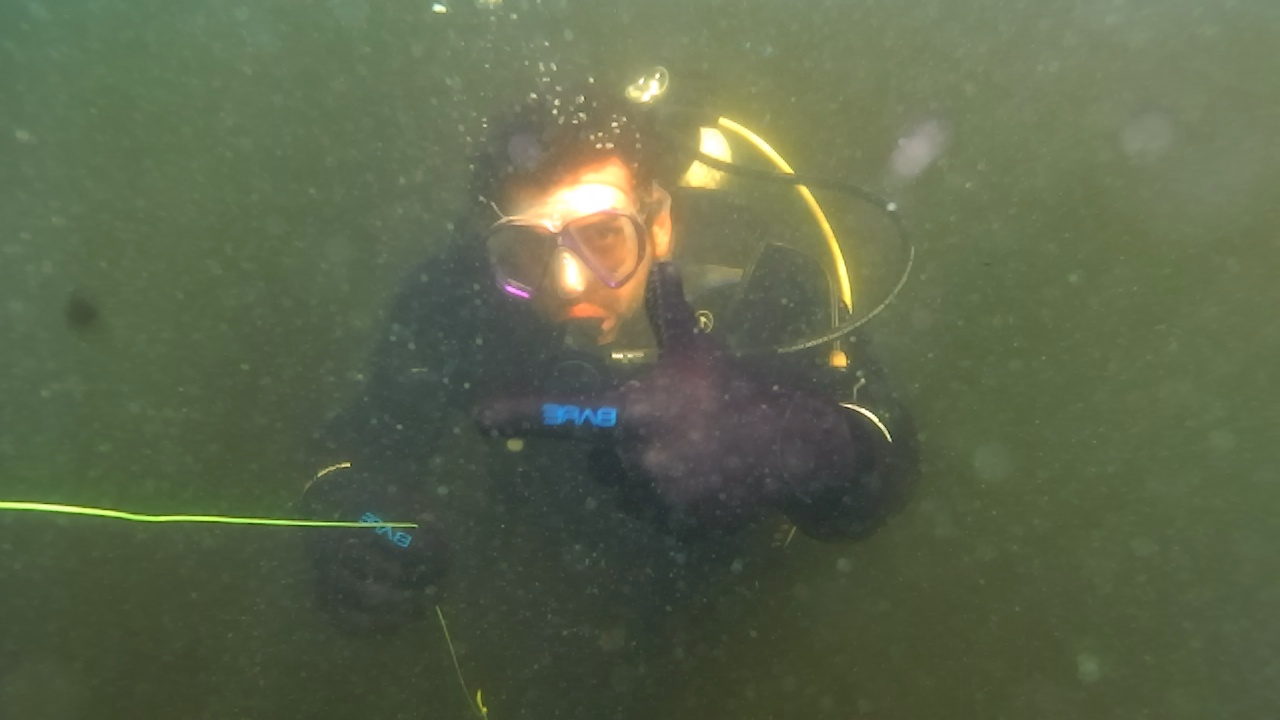Diver: (236, 66, 974, 680)
Hand: (478, 346, 866, 548), (278, 446, 480, 640)
Head: (442, 96, 694, 348)
